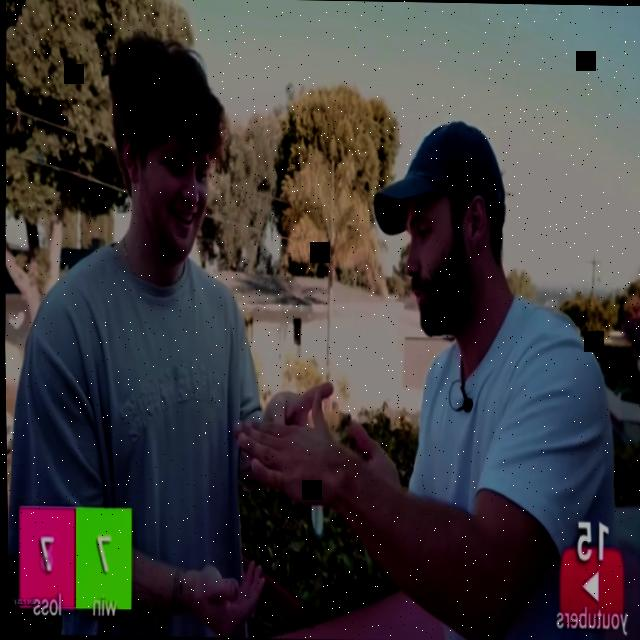Paper: (231, 390, 341, 504)
Scissors: (263, 378, 332, 428)
